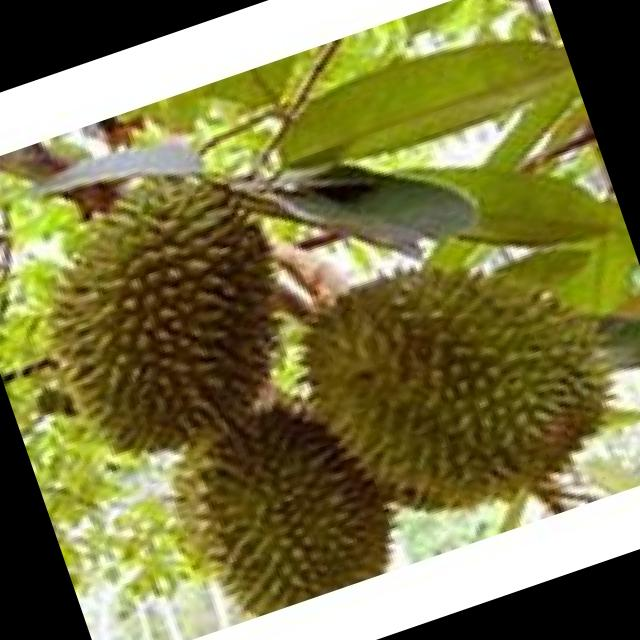fruit: (238, 162, 640, 579), (0, 112, 362, 523), (135, 359, 422, 635)
